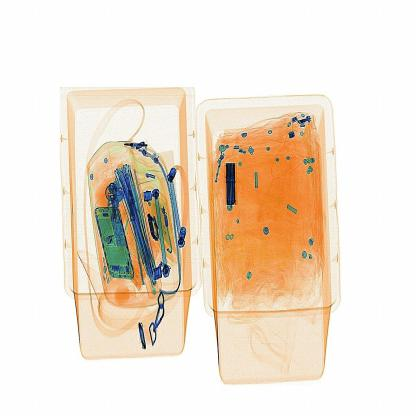scissors: (220, 150, 243, 215)
